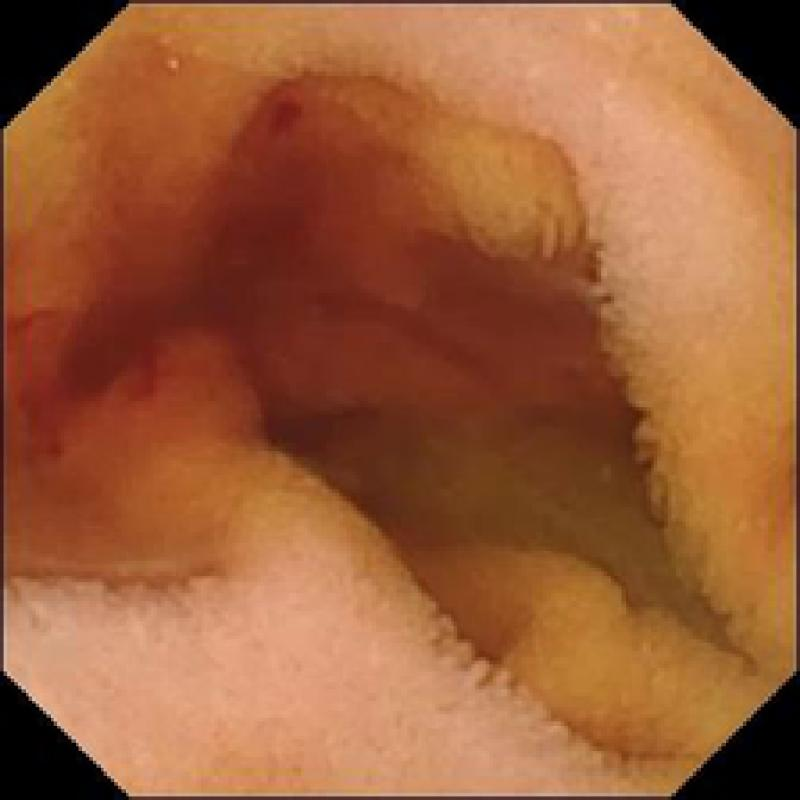bleeding: (7, 85, 479, 478)
